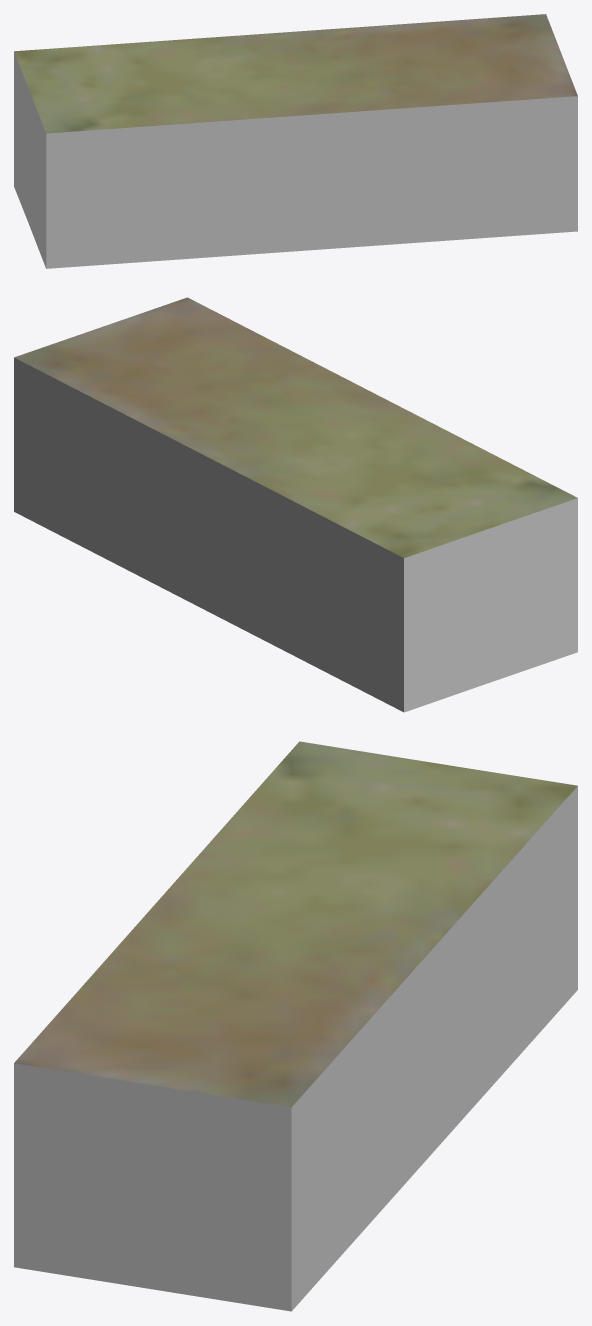
The model's file is DEBW_0010007Txg0.gltf.
3 renders of one model, top to bottom at view 1: azimuth 30°, elevation 25°; view 2: azimuth 150°, elevation 25°; view 3: azimuth 270°, elevation 25°, orthographic. The views are drawn at different scales.
Visible parts, largest first — view 1: Z_UP; view 2: Z_UP; view 3: Z_UP.
Boxes of the visible parts, bbox=[...] form: Z_UP: bbox=[14, 14, 577, 268]; Z_UP: bbox=[14, 297, 577, 712]; Z_UP: bbox=[14, 741, 577, 1311].
Size of the model in its own units: 9.92 by 2.58 by 6.46.
2 materials, 1 textured.
